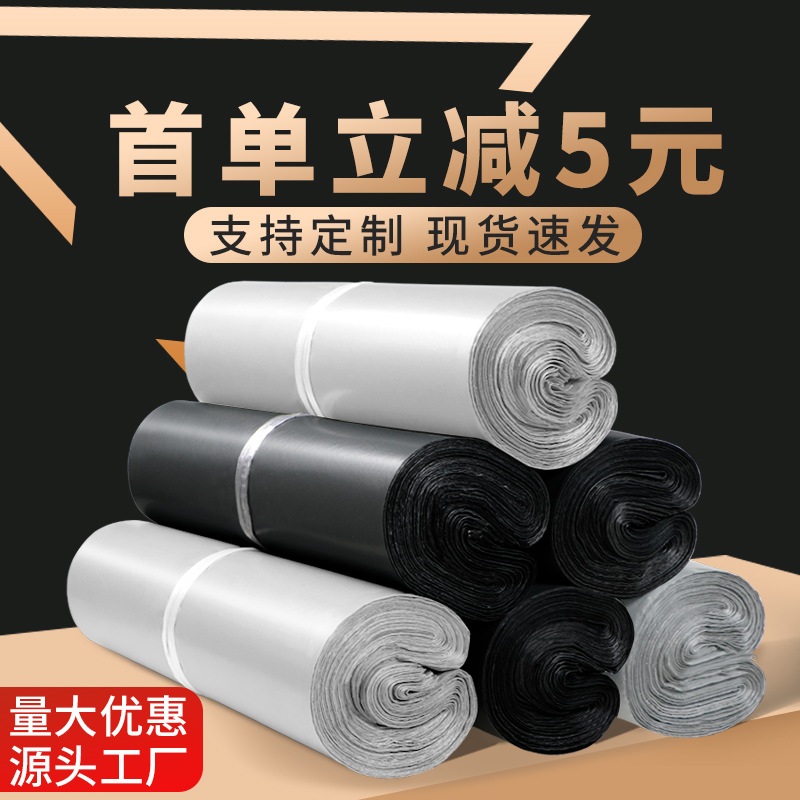Parcel: (68, 281, 763, 775)
